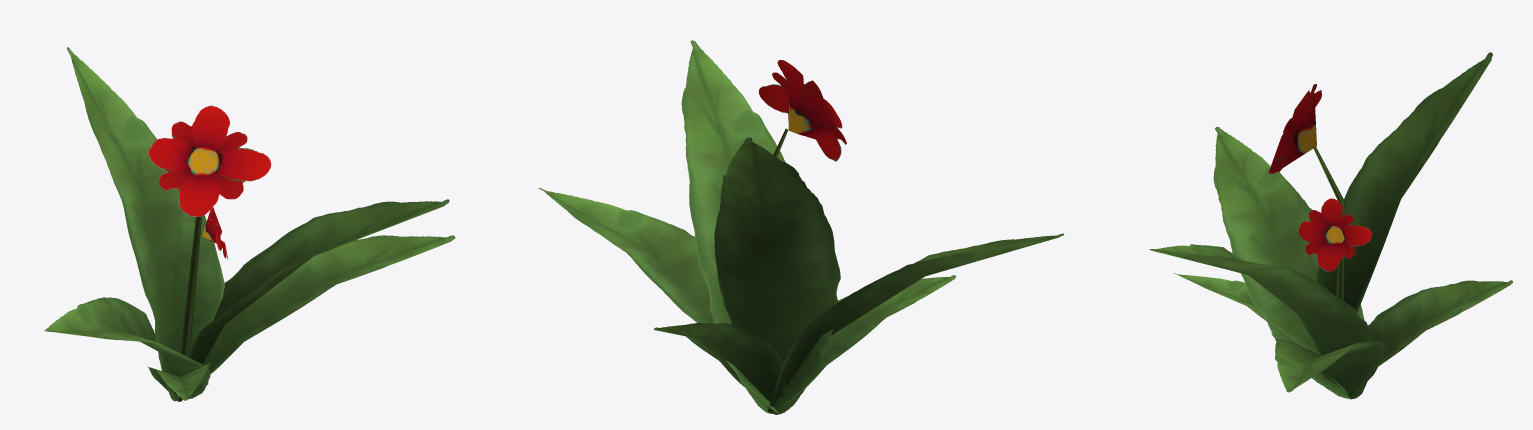
The model's file is rosaVermelhaLOD.fbx.
3 renders of one model, left to right at view 1: azimuth 30°, elevation 25°; view 2: azimuth 150°, elevation 25°; view 3: azimuth 270°, elevation 25°, orthographic. The views are drawn at different scales.
Parts seen in each view (by area): view 1: rosaVermelha_LOD0; view 2: rosaVermelha_LOD0; view 3: rosaVermelha_LOD0.
Boxes of the visible parts, bbox=[...] form: rosaVermelha_LOD0: bbox=[44, 47, 455, 401]; rosaVermelha_LOD0: bbox=[539, 40, 1063, 414]; rosaVermelha_LOD0: bbox=[1149, 52, 1512, 399].
Size of what is drawn, in the model's own units: 58.8 by 40.34 by 44.43.
